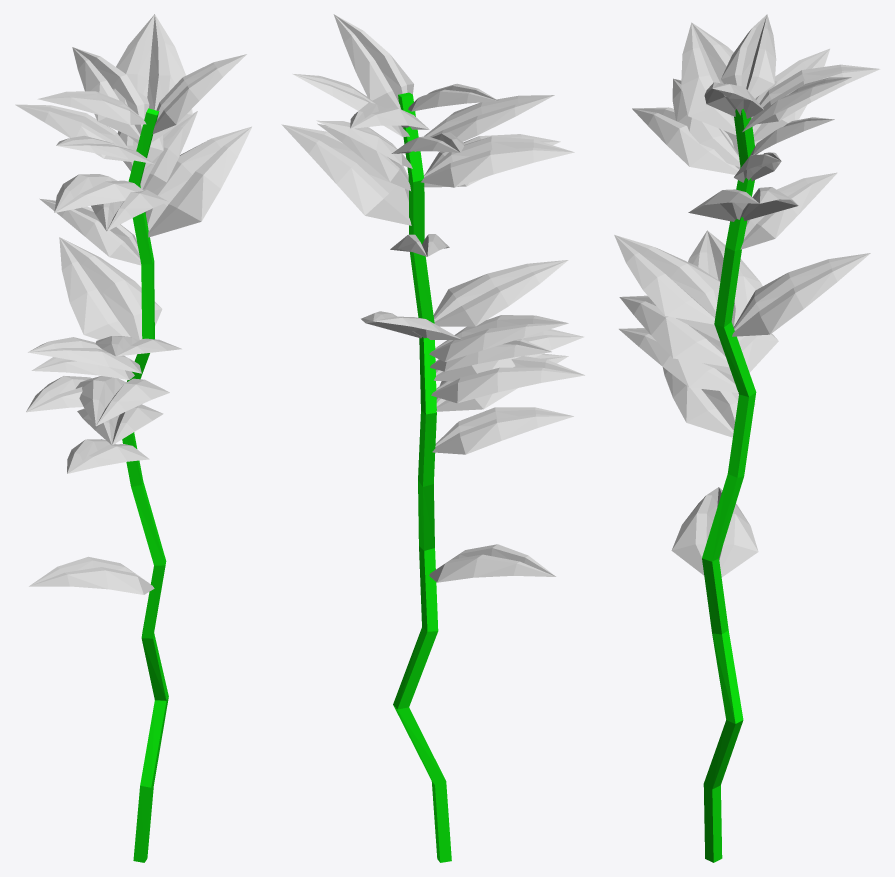
File: grasBig_9.fbx
3 views of the same model, side by side, from view 1: azimuth 30°, elevation 25°; view 2: azimuth 150°, elevation 25°; view 3: azimuth 270°, elevation 25° (orthographic). The views are drawn at different scales.
Parts seen in each view (by area): view 1: quickmaterial1; view 2: quickmaterial1; view 3: quickmaterial1.
Part boxes in pixels (left/top/right/bottom): quickmaterial1: left=15, top=14, right=251, bottom=862; quickmaterial1: left=281, top=14, right=584, bottom=862; quickmaterial1: left=614, top=14, right=880, bottom=862.
Bounding box in the file's own units: 0.3692 × 1.07 × 0.3122.
